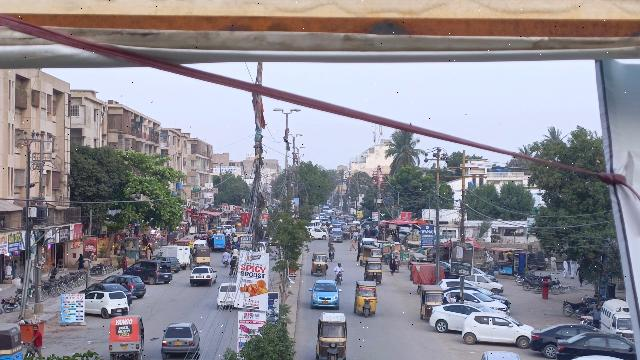Bike: (333, 271, 346, 285)
Car: (460, 310, 534, 347), (529, 320, 597, 354), (553, 331, 631, 360), (429, 302, 491, 336), (159, 320, 203, 360), (84, 290, 133, 317), (124, 258, 173, 285), (104, 271, 146, 297), (309, 276, 341, 309), (188, 264, 218, 287), (216, 281, 237, 309)
Person: (31, 325, 44, 358), (335, 262, 344, 275)
Rickshaw: (106, 314, 147, 360), (315, 310, 348, 360), (351, 279, 378, 319), (416, 284, 444, 322), (363, 257, 385, 284), (309, 250, 330, 277)
Suzuki: (600, 296, 634, 340)
Truck: (164, 242, 191, 268)
